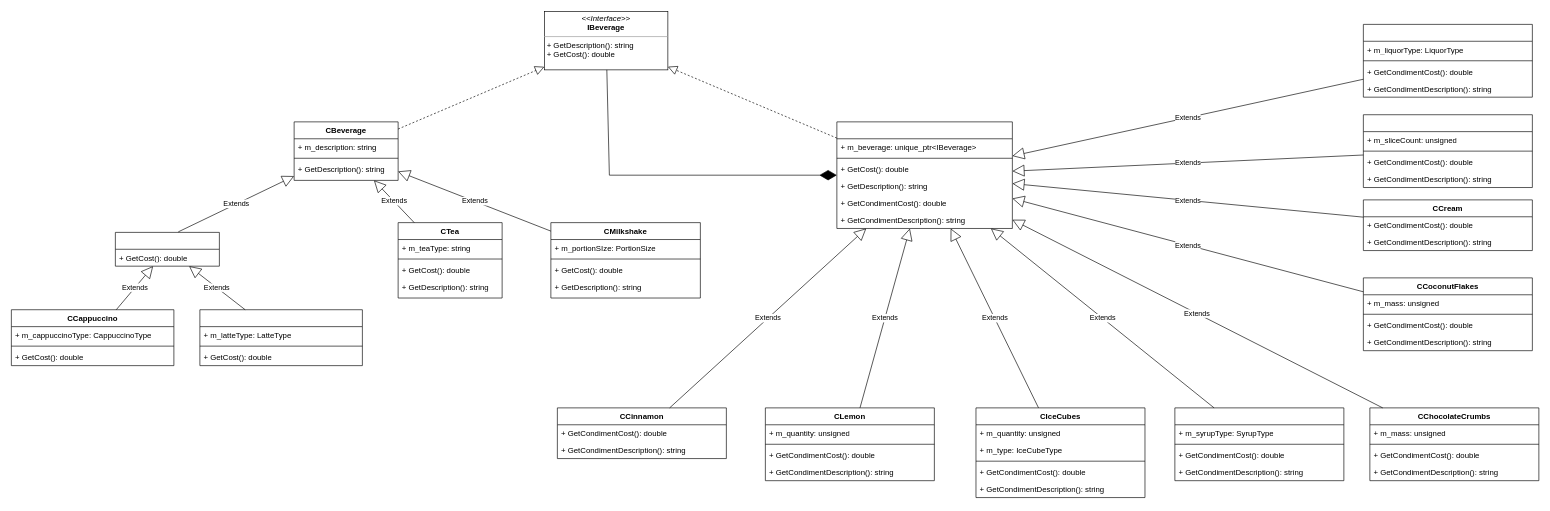
The diagram is 1550 pixels wide and 511 high, and some of its shapes have lost their labels. The box of each missing label's shape, as (x1, y1, x2, y2) in pixels:
CChocolate: (1363, 114, 1532, 188)
CCoffee: (115, 232, 219, 266)
CCondimentDecorator: (836, 121, 1012, 228)
CLatte: (199, 309, 362, 366)
CLiquor: (1363, 24, 1532, 97)
CSyrup: (1174, 407, 1344, 481)
